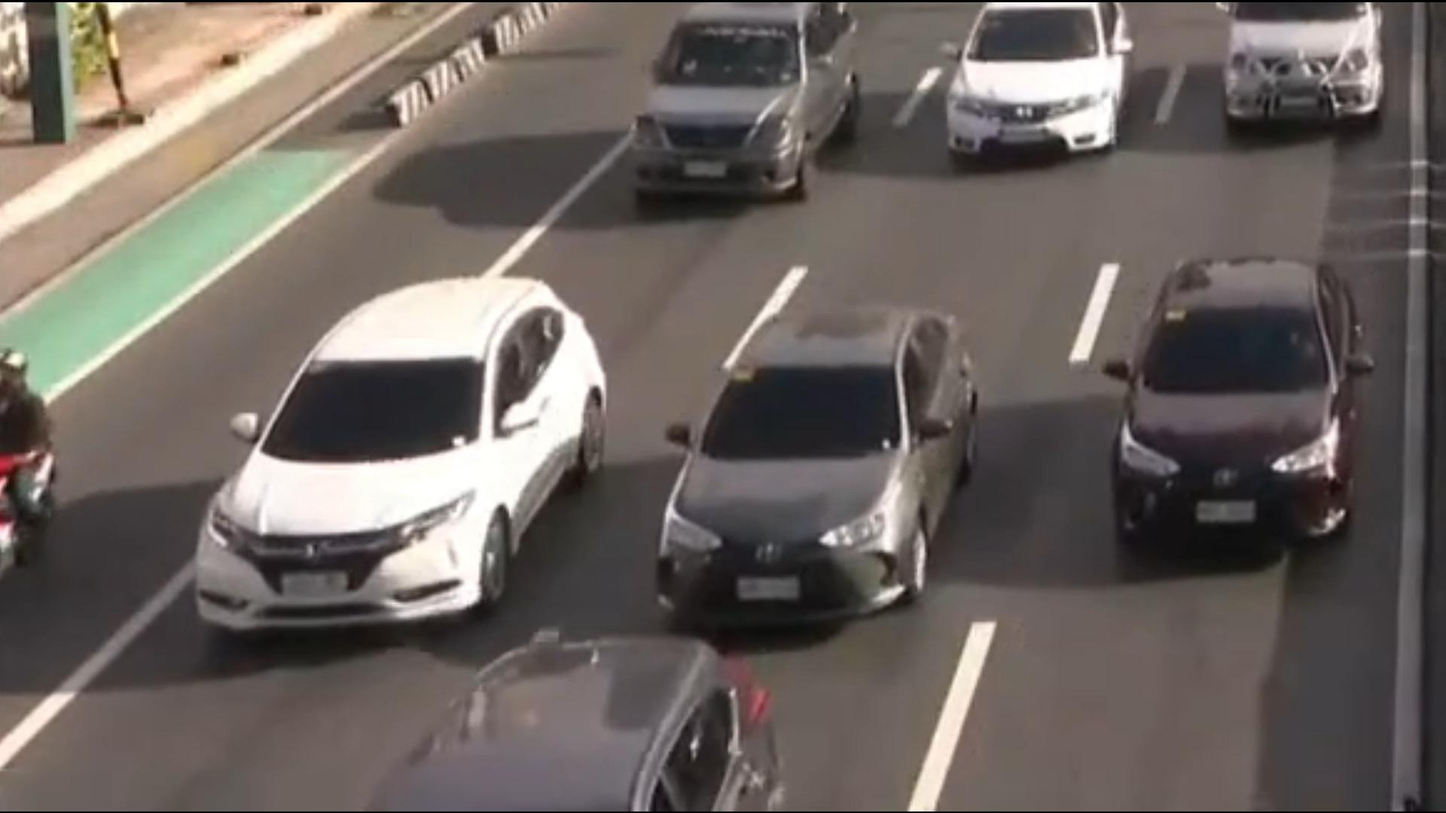Motorcycle: (0, 347, 87, 642)
SUV: (168, 267, 627, 658), (603, 0, 889, 220), (1180, 0, 1403, 148)
Sedan: (590, 313, 1011, 648), (1064, 207, 1384, 575), (320, 633, 833, 813), (930, 0, 1144, 187)
